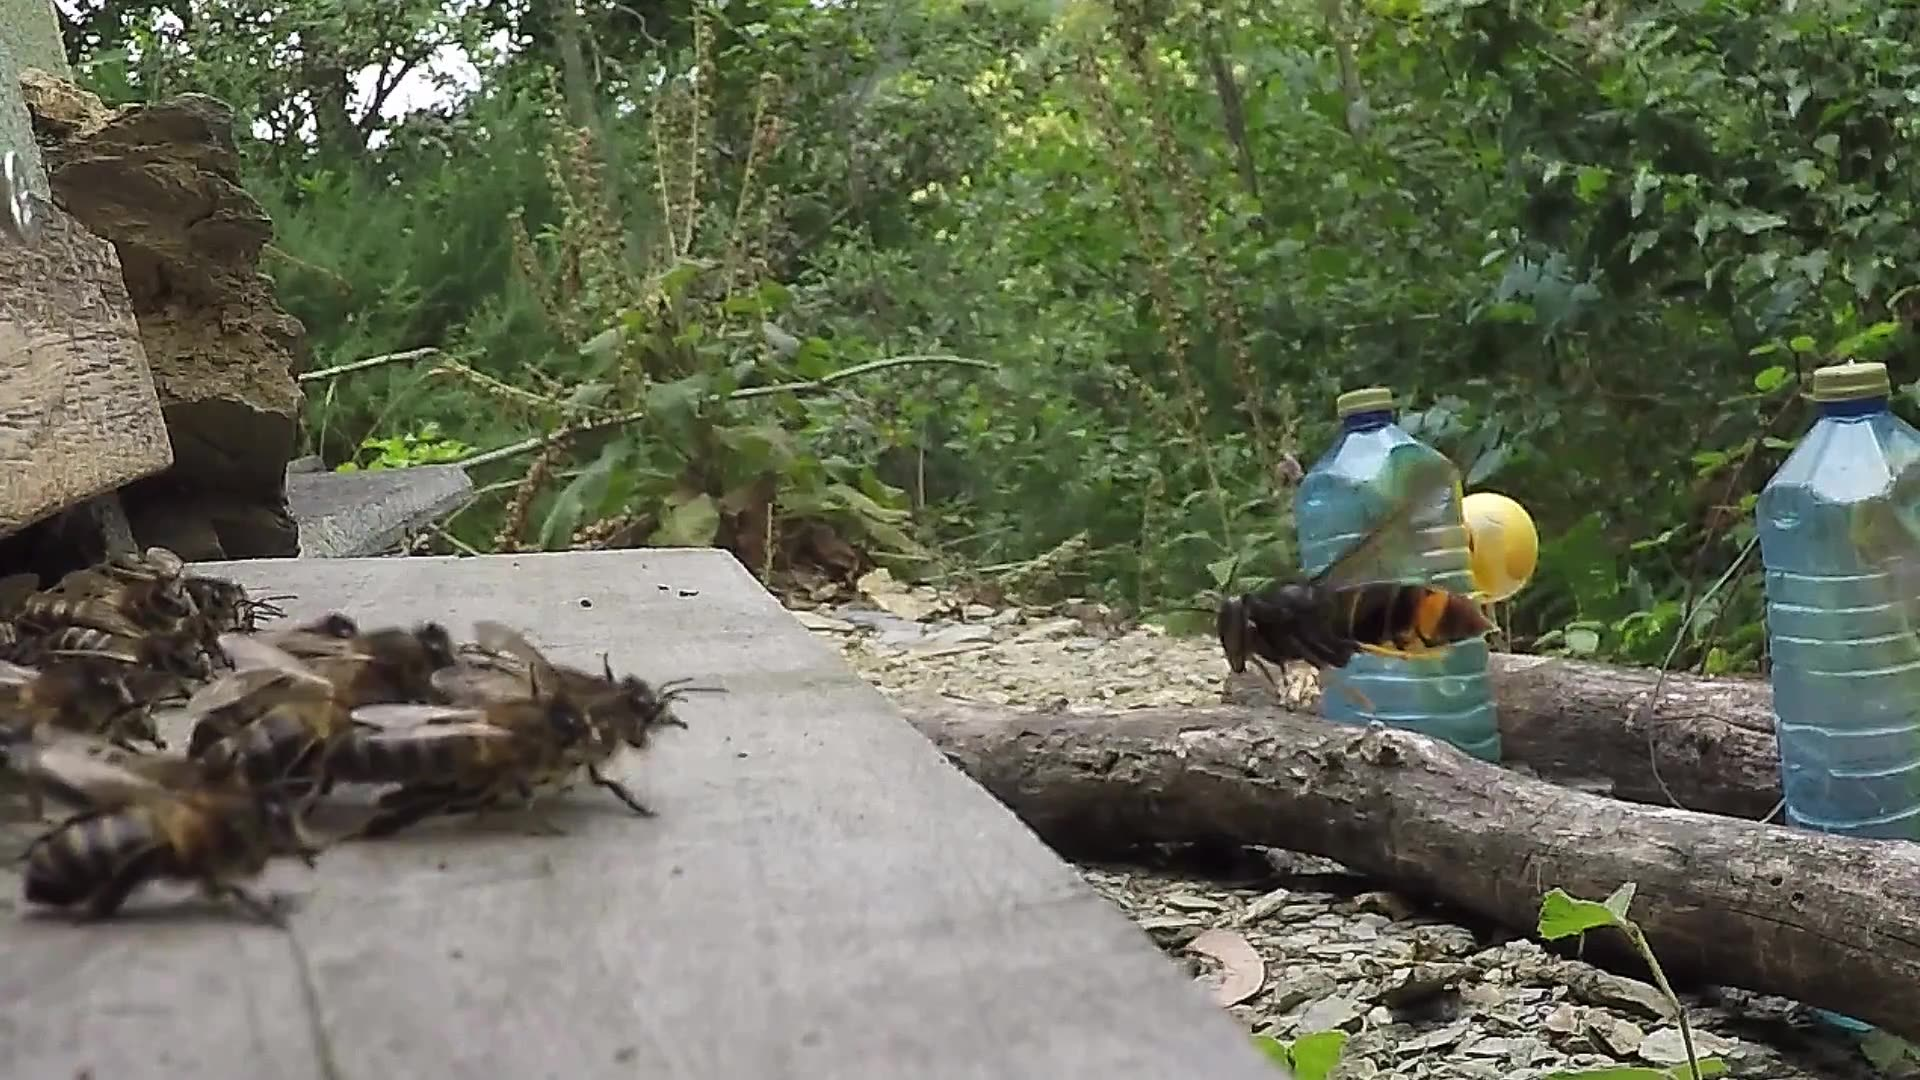bee: (214, 612, 716, 820), (4, 765, 352, 928), (7, 541, 270, 712)
hornet: (1188, 556, 1516, 694)
